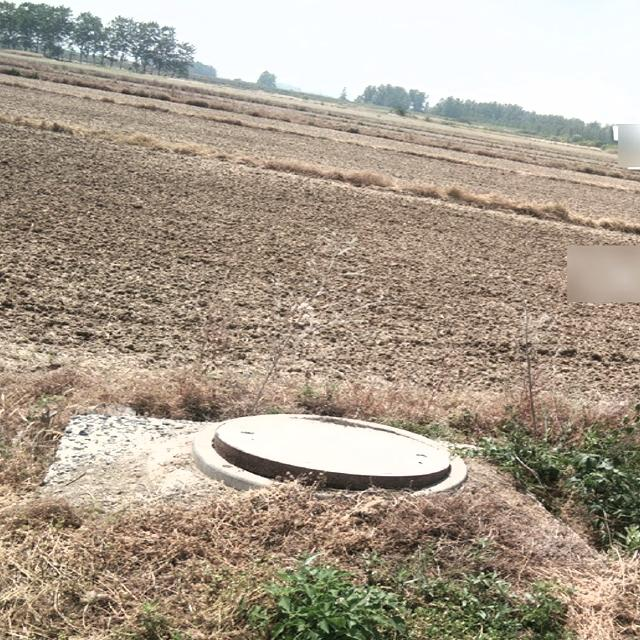uncovered: (195, 414, 467, 494)
